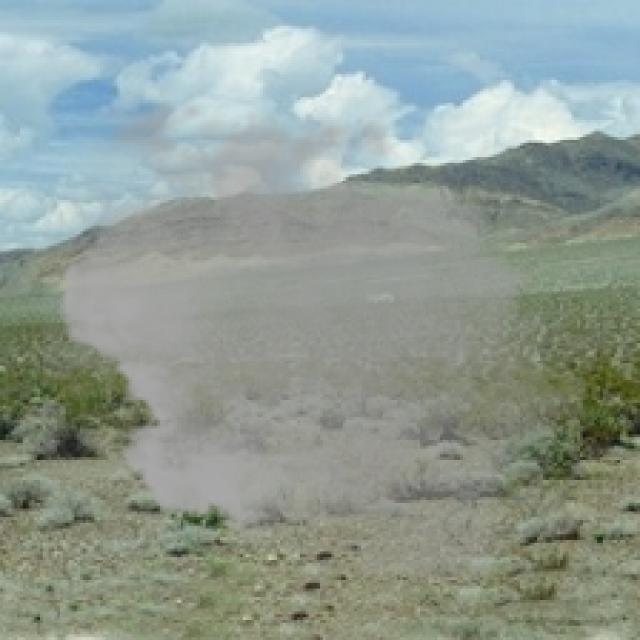Smoke: (43, 82, 612, 598)
